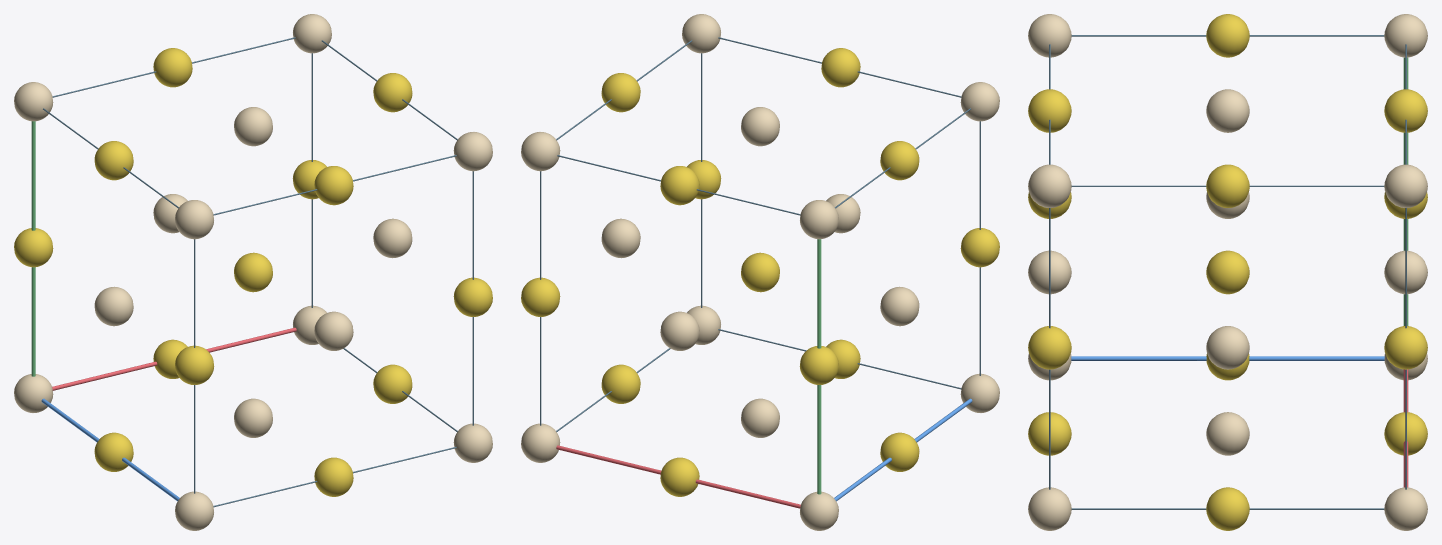
Rendered from chat-alabandite.glb.
3 renders of one model, left to right at view 1: azimuth 30°, elevation 25°; view 2: azimuth 150°, elevation 25°; view 3: azimuth 270°, elevation 25°, orthographic. The views are drawn at different scales.
Visible parts, largest first — view 1: Mn · Mn · 1 (×14), S · S · 1 (×13), Ô mạng và các trục a, b, c; view 2: Mn · Mn · 1 (×14), S · S · 1 (×13), Ô mạng và các trục a, b, c; view 3: Mn · Mn · 1 (×13), S · S · 1 (×13), Ô mạng và các trục a, b, c.
Part boxes in pixels (x1=…): Mn · Mn · 1 (×14): x1=14, y1=14, x2=492, y2=530; S · S · 1 (×13): x1=14, y1=48, x2=492, y2=496; Ô mạng và các trục a, b, c: x1=31, y1=37, x2=473, y2=507; Mn · Mn · 1 (×14): x1=521, y1=14, x2=999, y2=530; S · S · 1 (×13): x1=521, y1=48, x2=999, y2=496; Ô mạng và các trục a, b, c: x1=540, y1=37, x2=980, y2=508; Mn · Mn · 1 (×13): x1=1028, y1=14, x2=1427, y2=530; S · S · 1 (×13): x1=1028, y1=14, x2=1427, y2=530; Ô mạng và các trục a, b, c: x1=1049, y1=35, x2=1408, y2=509.
Size of the model in its own units: 5.86 by 5.86 by 5.86.
